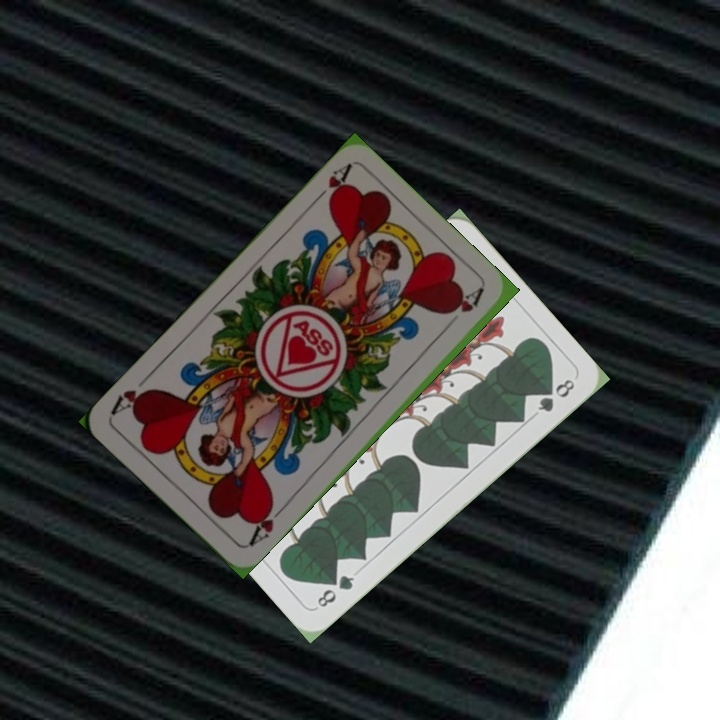G8: (313, 570, 357, 610)
HA: (244, 498, 288, 549), (307, 161, 353, 208)
